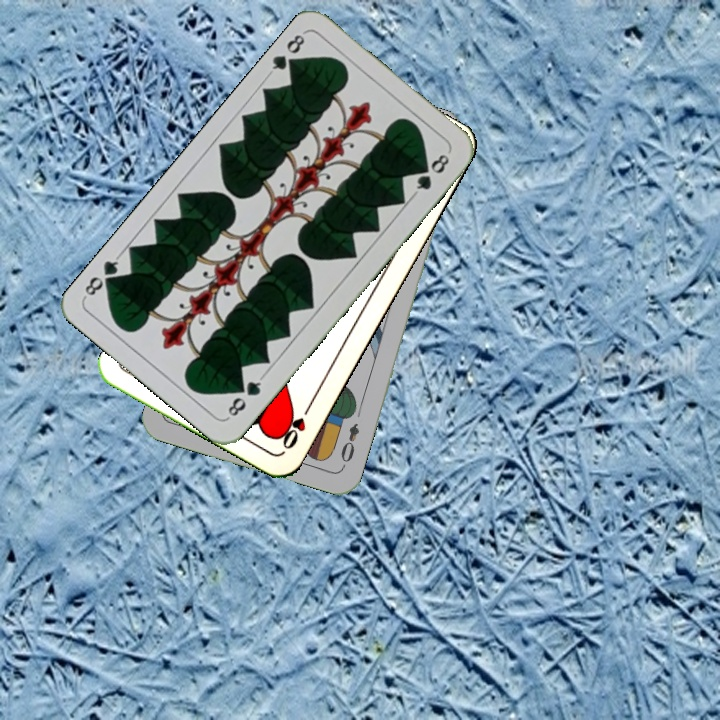EO: (336, 419, 362, 470)
G8: (264, 28, 308, 77), (223, 372, 266, 421)
HO: (275, 400, 315, 452)
